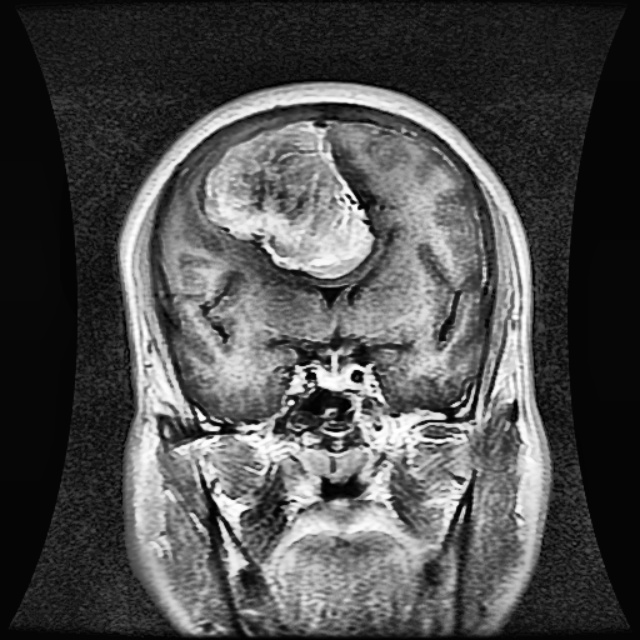Glioma: (204, 119, 373, 279)
